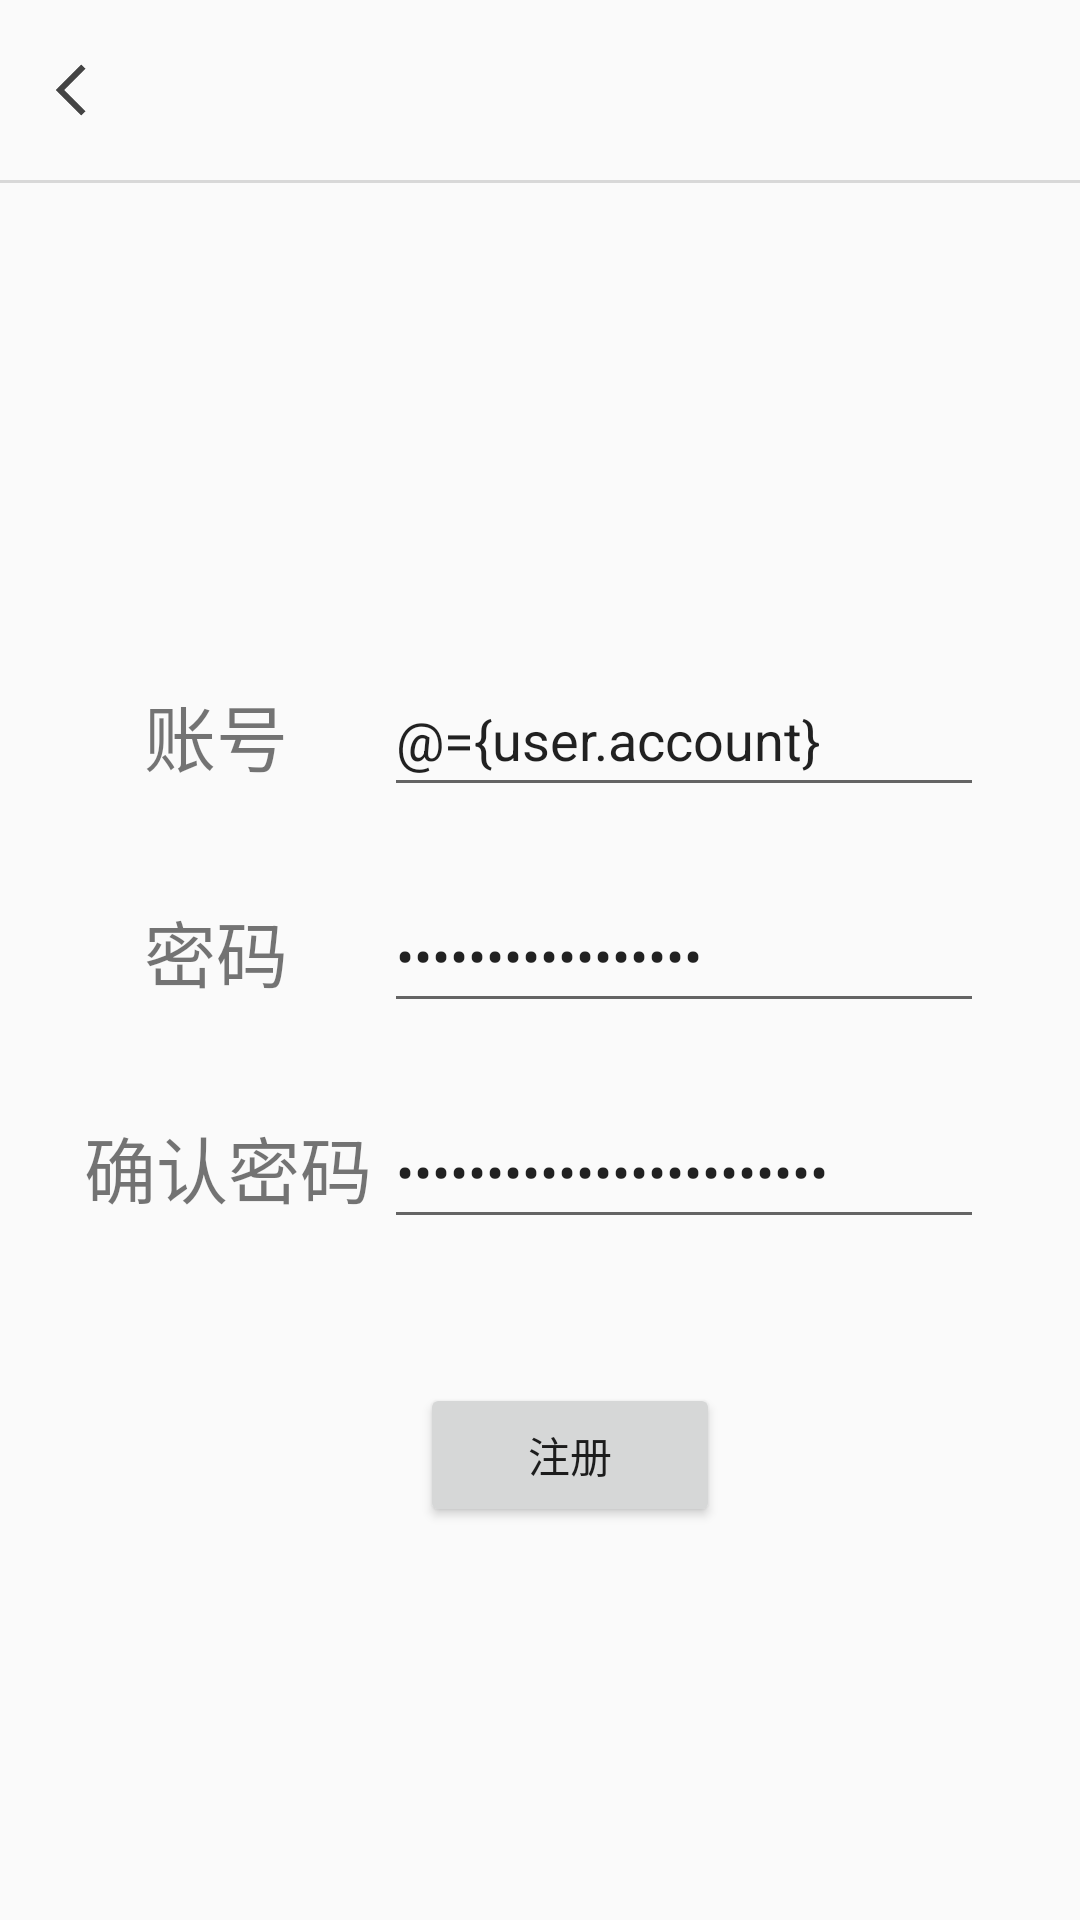

Icons on this 1080x1920 Android screen, each with the point to tap as [x,y]:
to left: [71,90]
